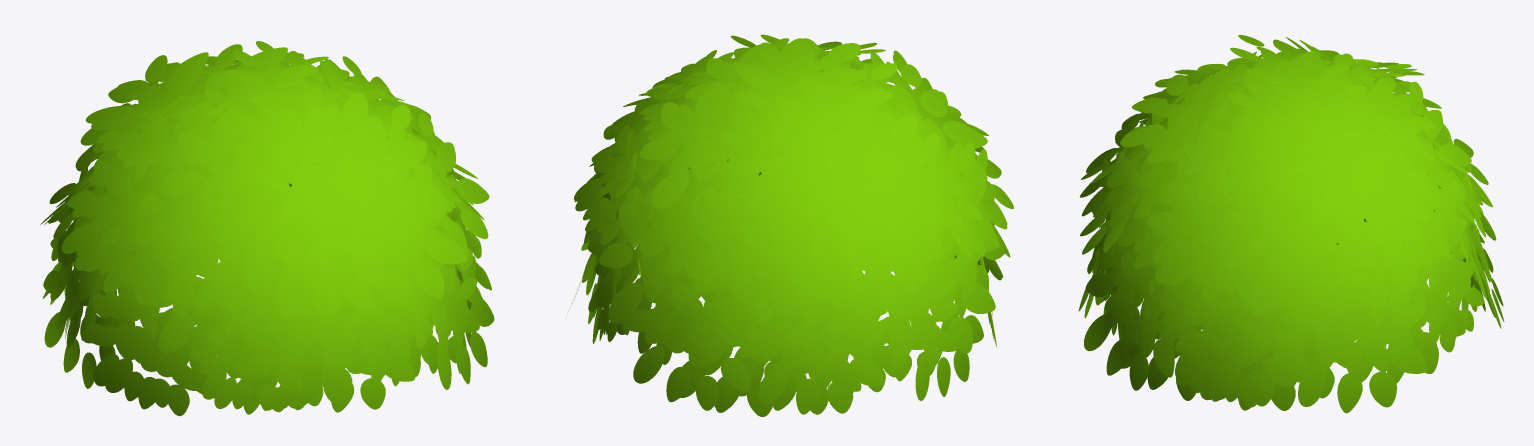
Rendered from q_bush_small.fbx.
3 views of the same model, side by side, from view 1: azimuth 30°, elevation 25°; view 2: azimuth 150°, elevation 25°; view 3: azimuth 270°, elevation 25° (orthographic). The views are drawn at different scales.
Visible parts, largest first — view 1: q_bush_small; view 2: q_bush_small; view 3: q_bush_small.
Part boxes in pixels (<box>): q_bush_small: <box>40,41,494,416</box>; q_bush_small: <box>567,34,1013,416</box>; q_bush_small: <box>1078,35,1504,413</box>.
Size of the model in its own units: 1.58 by 1 by 1.52.
1 material, 1 textured.
